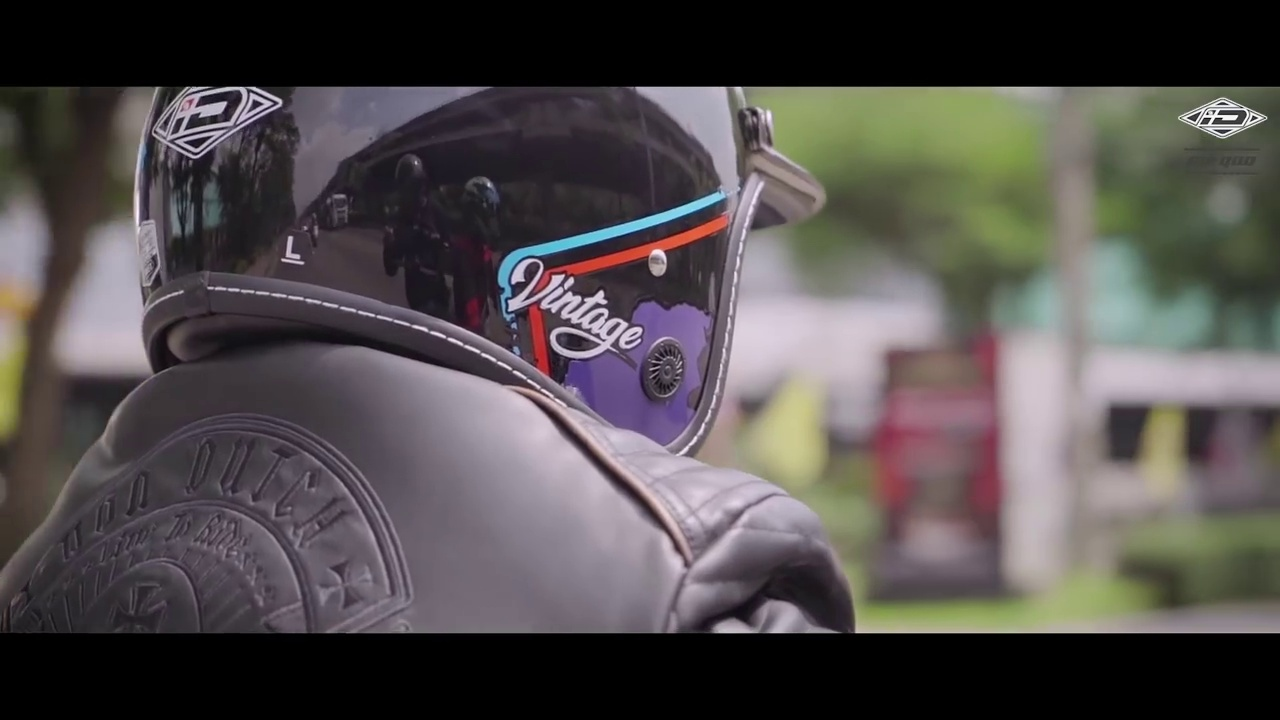helmet: (128, 85, 813, 429)
